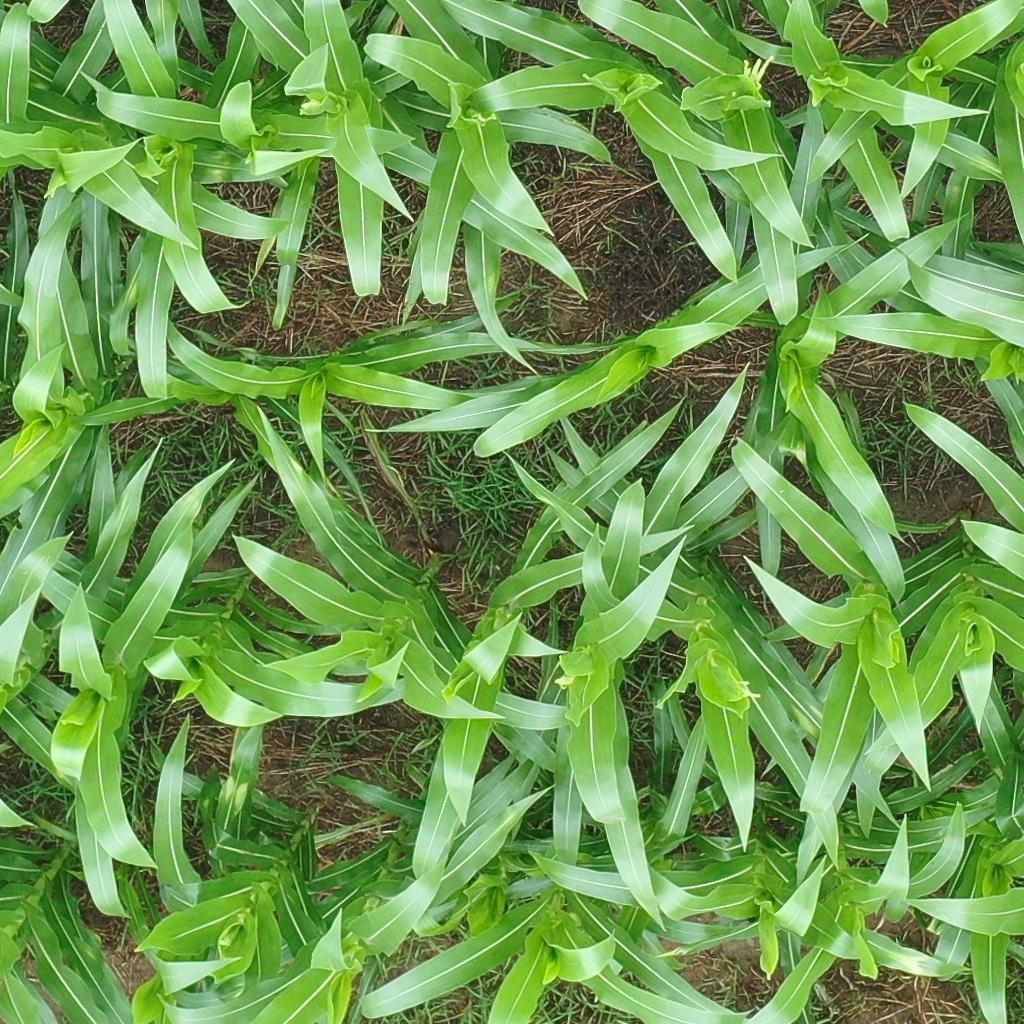Tassel: (725, 674, 766, 706), (740, 53, 774, 88), (550, 671, 577, 692), (296, 94, 325, 111)
